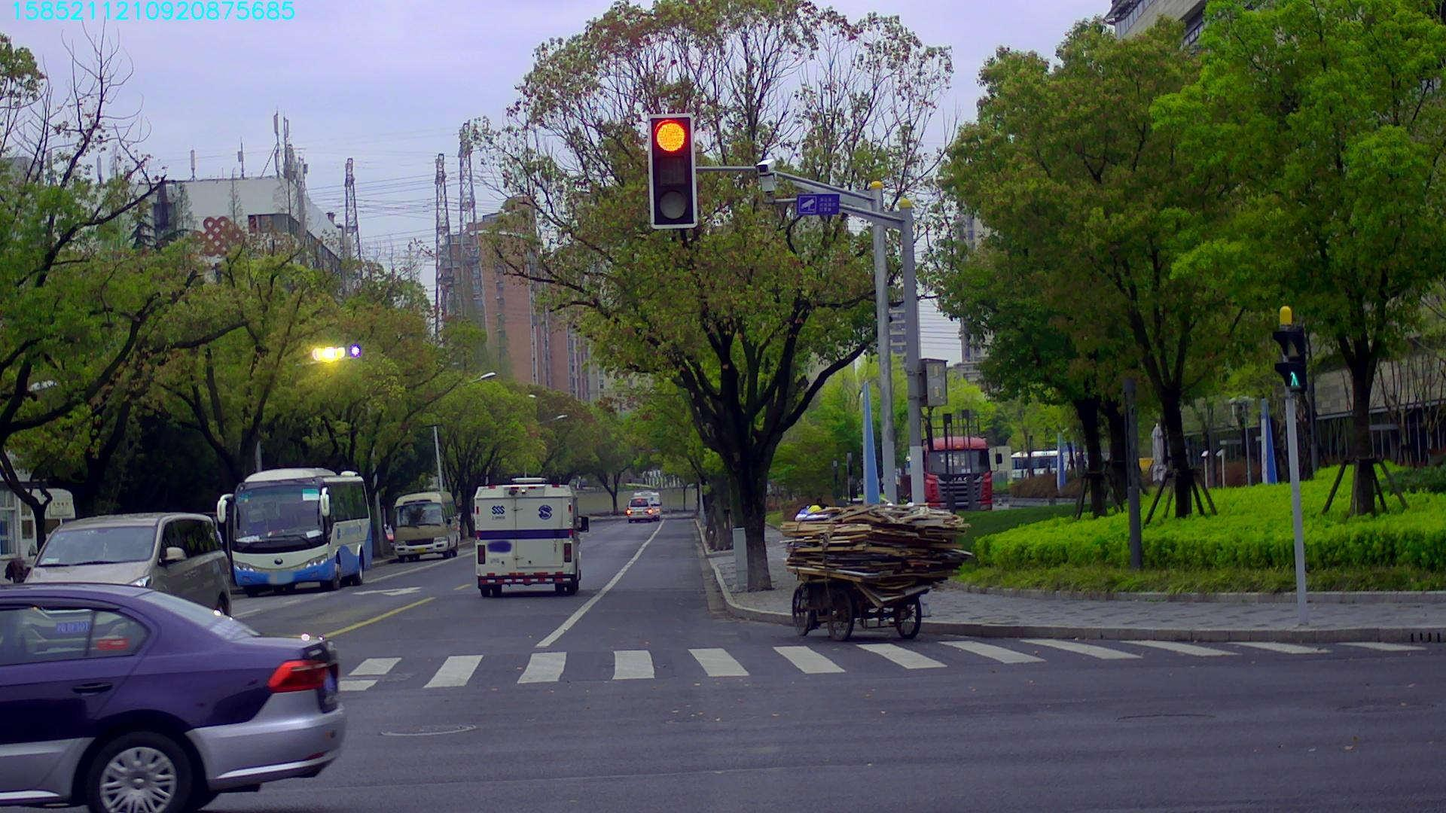red: (649, 116, 694, 224)
